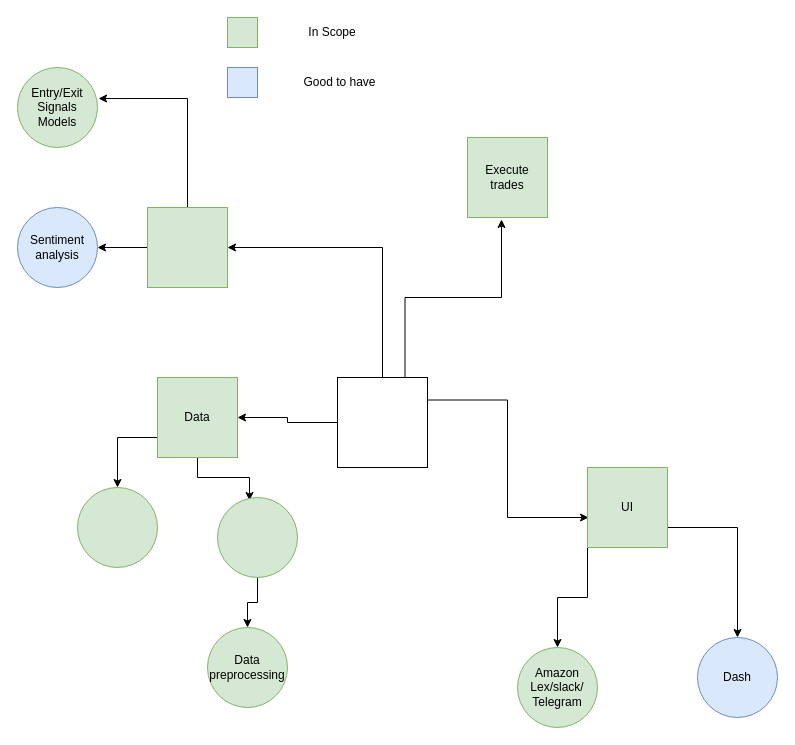
The diagram is 795 pixels wide and 745 high, and some of its shapes have lost their labels. The centre of each missing label's shape, as x and y in pixels:
Data gathering: [117,527]
ML Models: [187,247]
ML Trading: [382,422]
Technical Indicators: [257,537]
